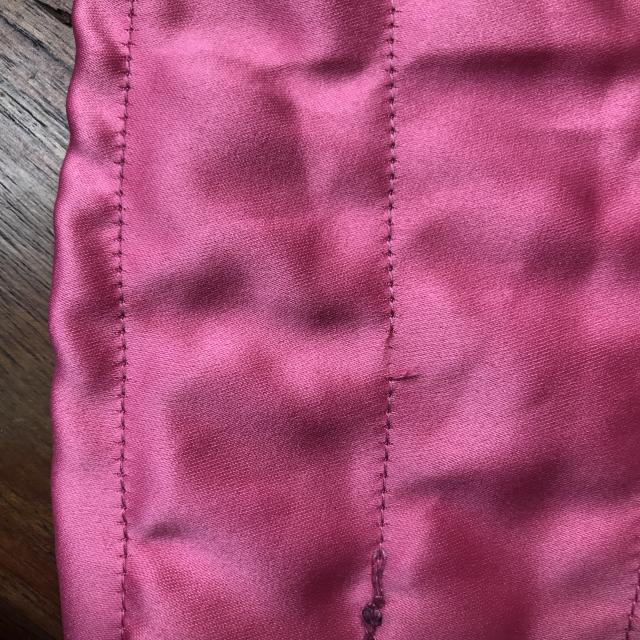broken: (366, 305, 429, 396)
